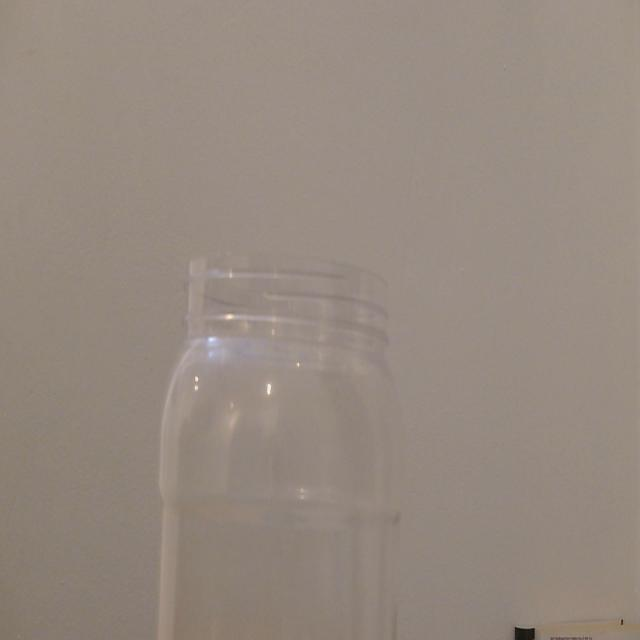missing_cap: (160, 241, 420, 370)
